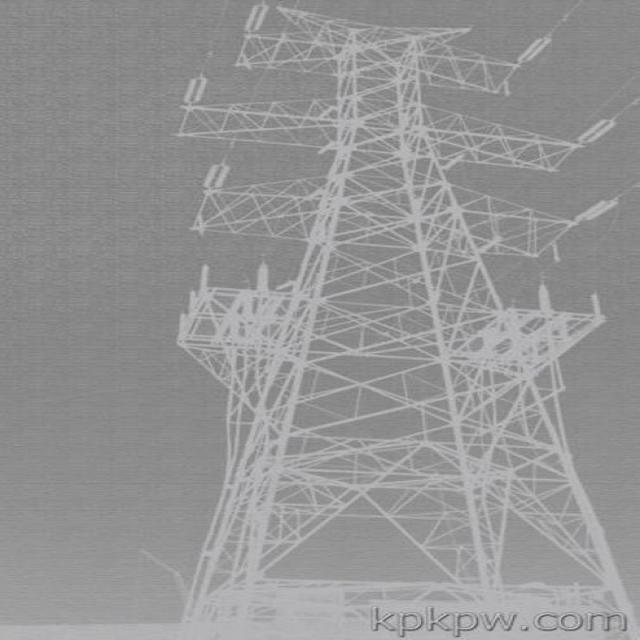non-critical vegetation: (154, 8, 627, 590)
